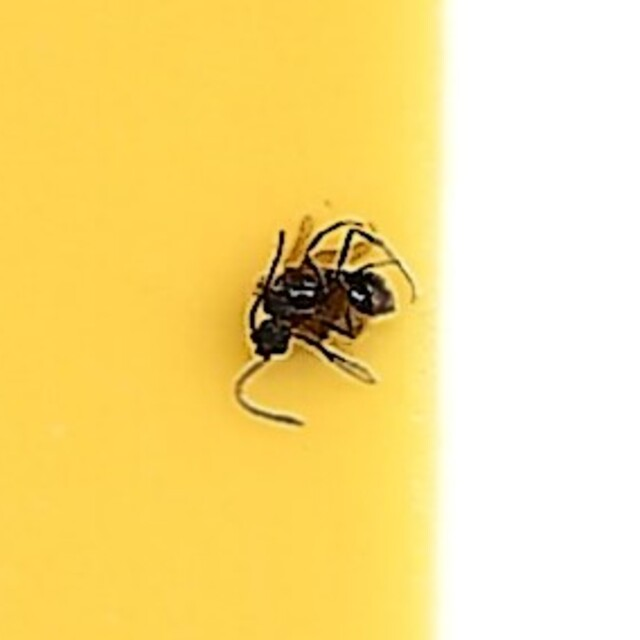Hymenoptera: (225, 211, 415, 429)
